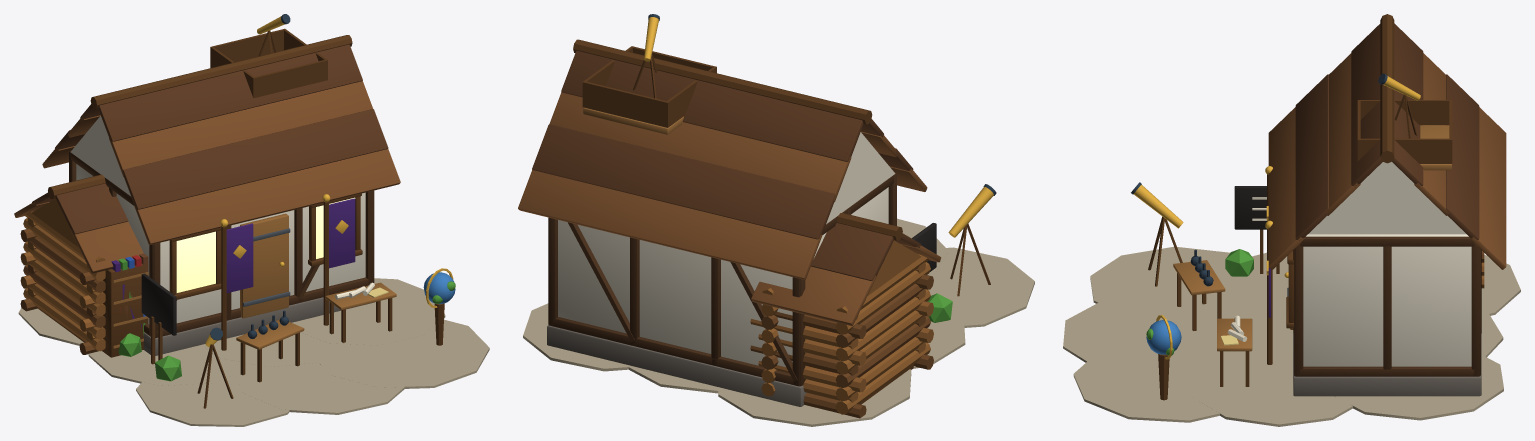
The model's file is akademia_poz10.glb.
3 views of the same model, side by side, from view 1: azimuth 30°, elevation 25°; view 2: azimuth 150°, elevation 25°; view 3: azimuth 270°, elevation 25° (orthographic). The views are drawn at different scales.
Visible parts, largest first — view 1: akademia_poz10; view 2: akademia_poz10; view 3: akademia_poz10.
Boxes of the visible parts, left/top/right/bottom form: akademia_poz10: left=14, top=14, right=489, bottom=426; akademia_poz10: left=518, top=14, right=1034, bottom=426; akademia_poz10: left=1063, top=14, right=1520, bottom=426.
Size of the model in its own units: 7.26 by 5.7 by 7.78.
